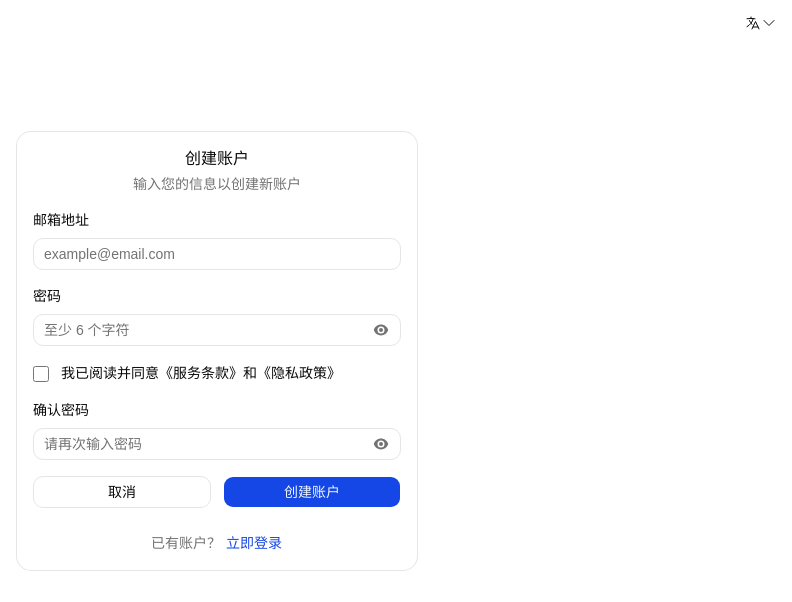
Test case: SignUpPage › 表单验证 › 应该显示条款未勾选错误（当未勾选条款时提交）
# 填写有效数据但不勾选条款
In the field labelled "邮箱地址": point(217, 254) [33,238,401,270], type "user@example.com"
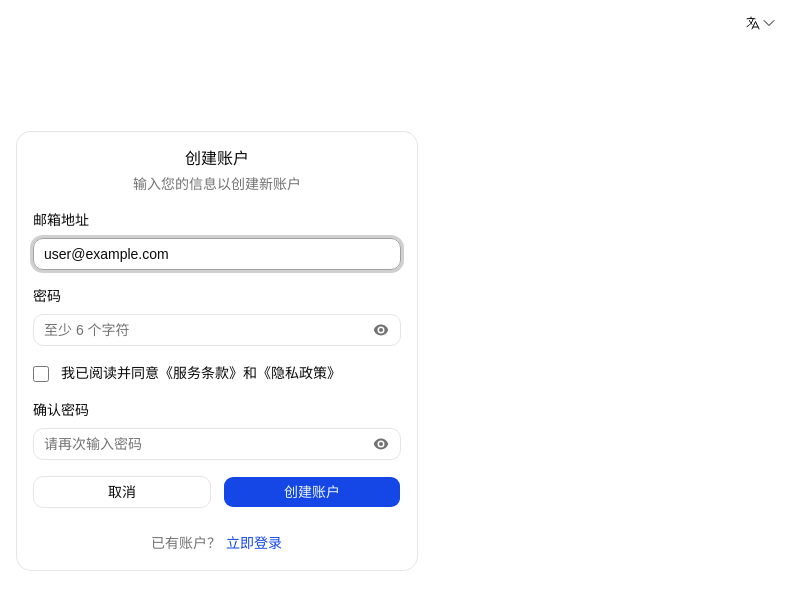
In the password field labelled "密码": point(217, 330) [33,314,401,346], type "password123"
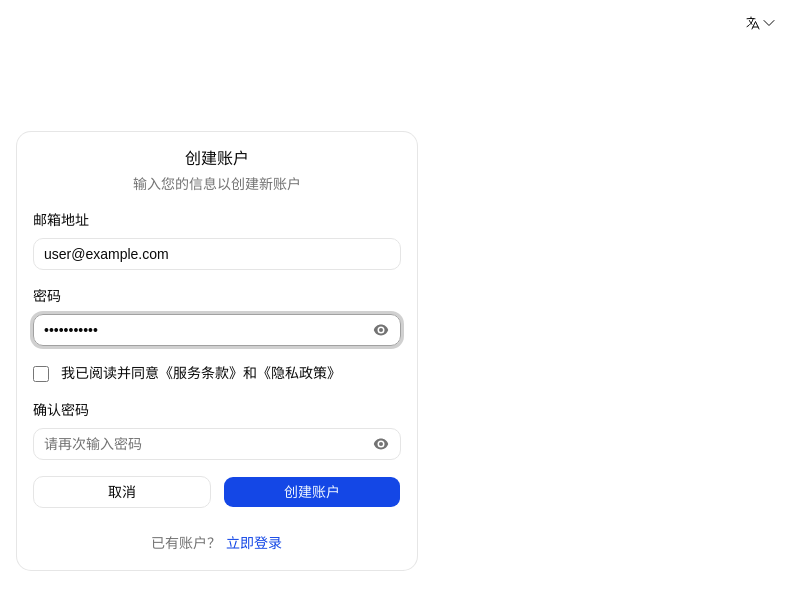
In the password field labelled "确认密码": point(217, 444) [33,428,401,460], type "password123"
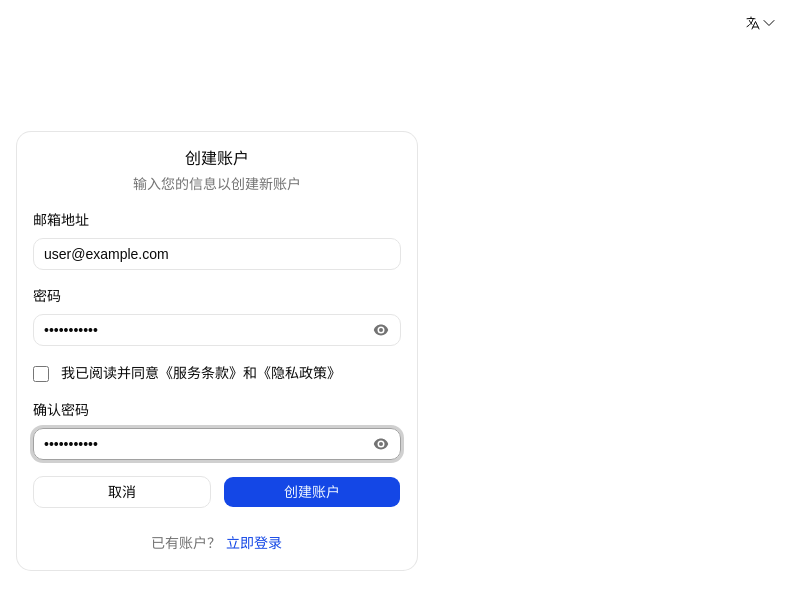
# 不勾选 acceptedTerms
Click the button "创建账户": point(312, 492) [223,476,401,508]
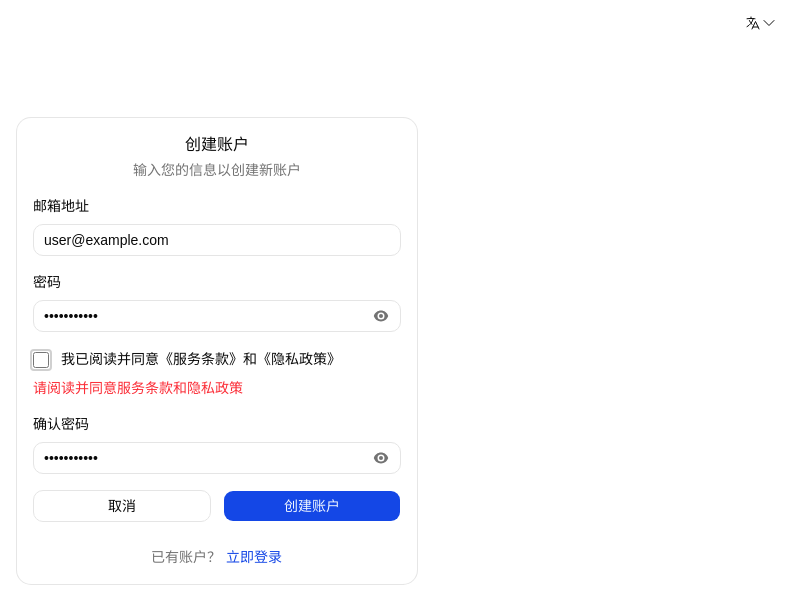
Expected: the message with test id "acceptedTerms-error" shows "请阅读并同意", [33,380,243,396]
